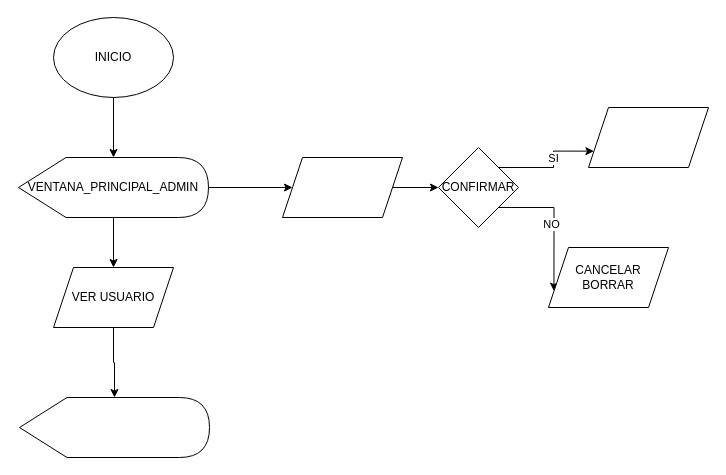
This 726x475 diagram has some shape labels left out. The shapes that lost their labels are listed below. From the top down, each one's centre as x and y in pixels, then its label:
point (648, 137): PROCEDER CON EL BORRADO
point (342, 187): BORRAR USUARIO
point (114, 427): VENTANA_VER_USUARIO_ADMIN
